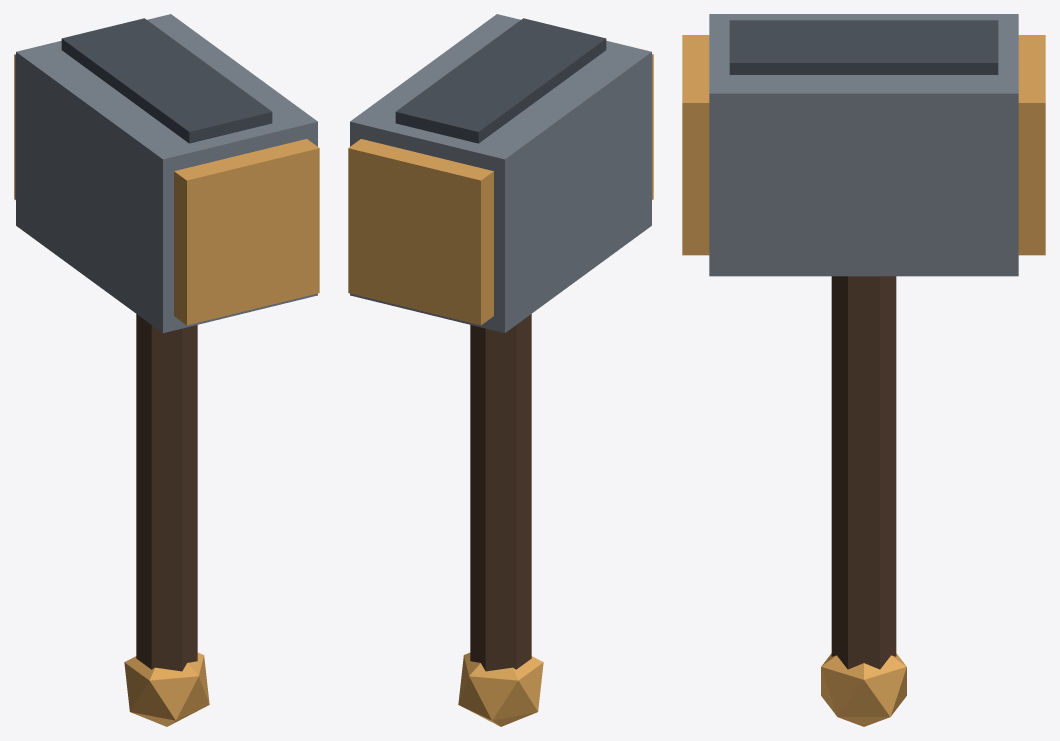
File: weapon_hammer.glb
The picture shows the model from 3 angles, left to right: view 1: azimuth 30°, elevation 25°; view 2: azimuth 150°, elevation 25°; view 3: azimuth 270°, elevation 25°; orthographic projection. The views are drawn at different scales.
Visible parts, largest first — view 1: head, face_r, handle, crown, butt; view 2: head, face_l, handle, crown, butt; view 3: head, handle, crown, face_r, face_l, butt.
Boxes of the visible parts, x1=… form: head: x1=16, y1=14, x2=317, y2=333; face_r: x1=174, y1=139, x2=319, y2=325; handle: x1=136, y1=314, x2=197, y2=671; crown: x1=61, y1=18, x2=272, y2=143; butt: x1=124, y1=652, x2=209, y2=726; head: x1=350, y1=14, x2=651, y2=333; face_l: x1=348, y1=139, x2=493, y2=325; handle: x1=470, y1=314, x2=531, y2=671; crown: x1=395, y1=18, x2=606, y2=143; butt: x1=458, y1=652, x2=543, y2=726; head: x1=709, y1=14, x2=1018, y2=276; handle: x1=831, y1=276, x2=896, y2=669; crown: x1=729, y1=20, x2=998, y2=74; face_r: x1=682, y1=35, x2=709, y2=255; face_l: x1=1018, y1=35, x2=1045, y2=255; butt: x1=821, y1=653, x2=906, y2=726.
Size of the model in its own units: 0.28 by 1.12 by 0.54.
